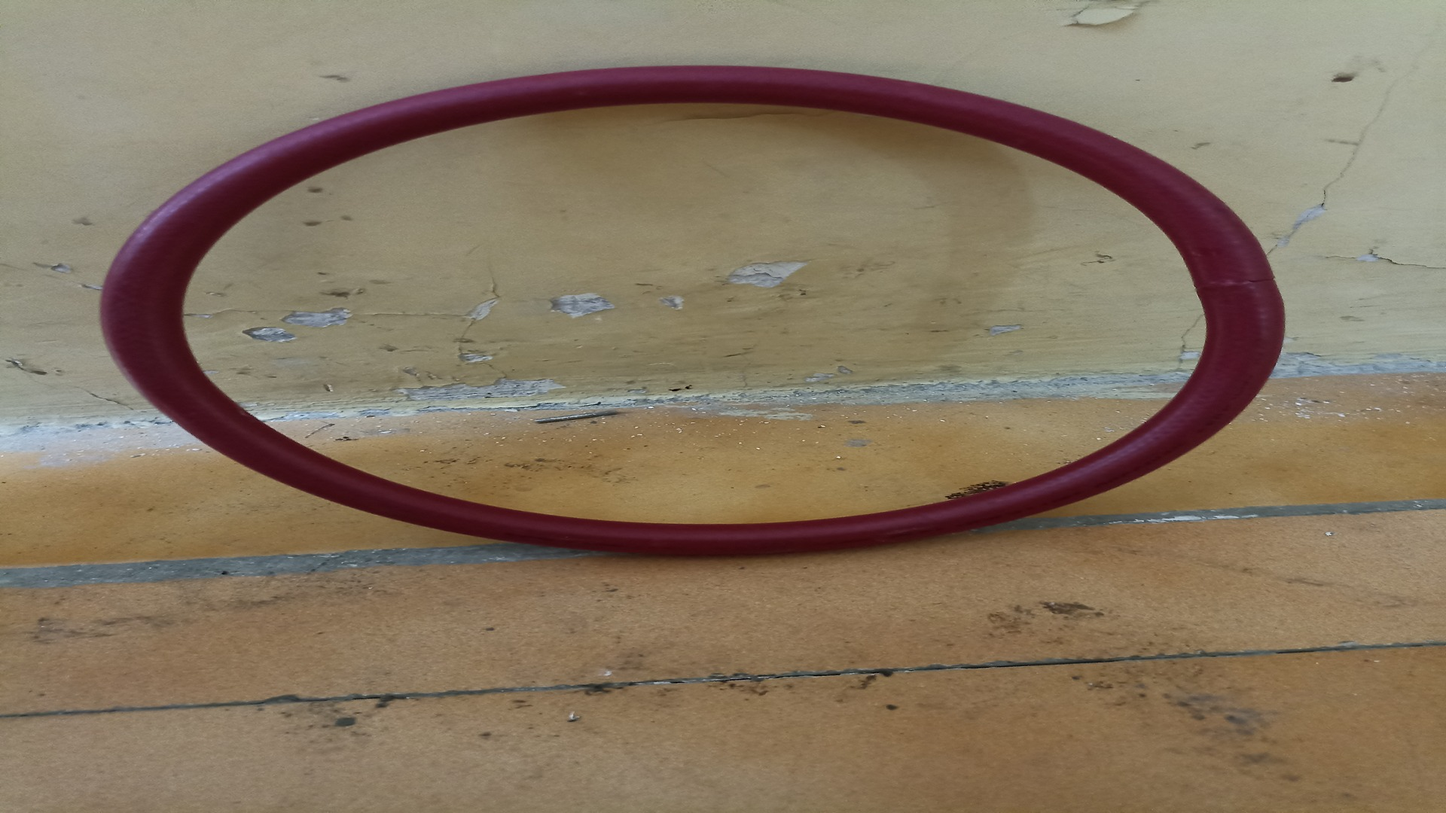Red ring: (96, 68, 1286, 556)
